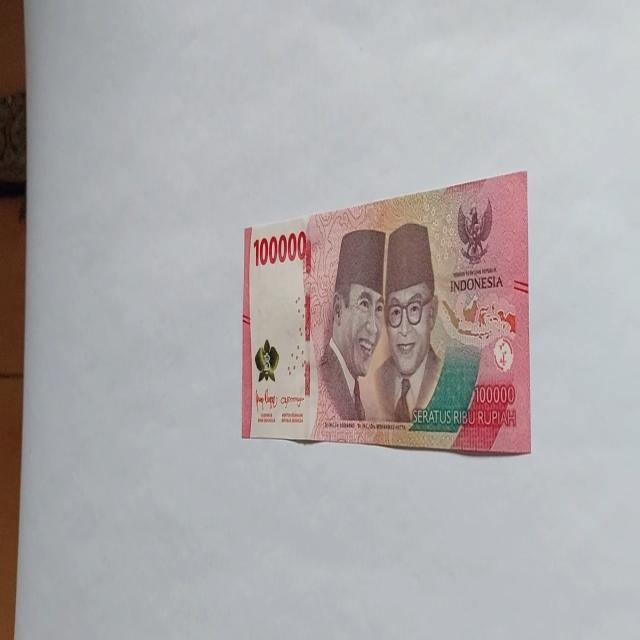seratus ribu rupiah: (240, 169, 532, 456)
